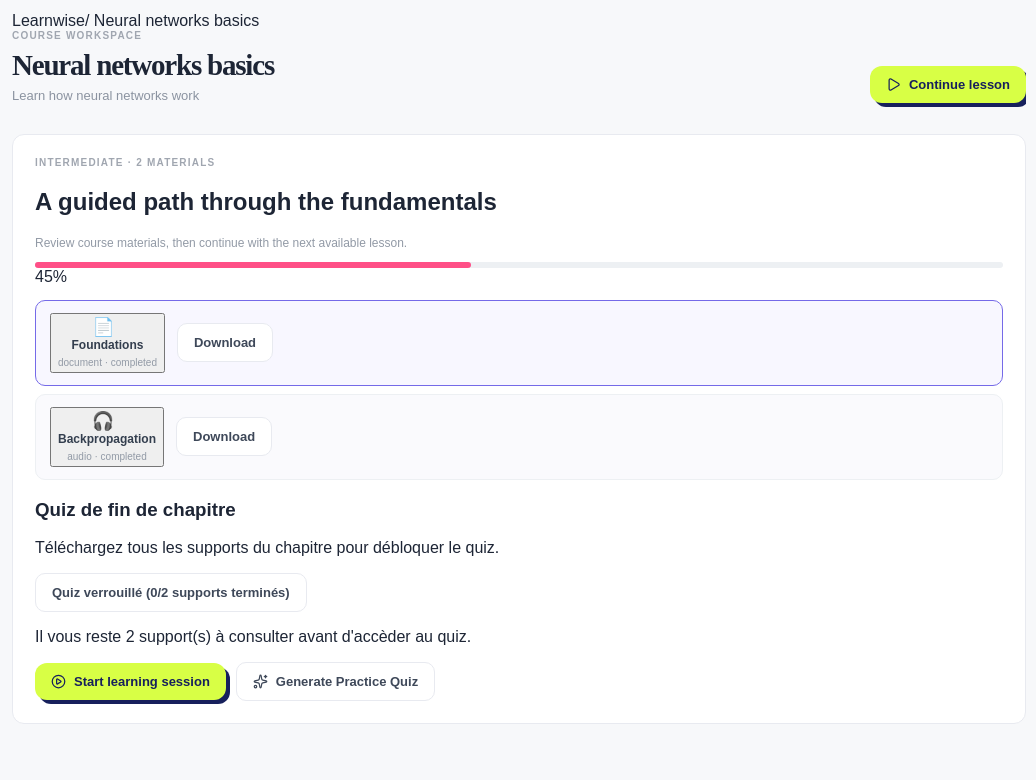
CourseDetailPage › shows quiz generation success message
The width and height of the screenshot is (1036, 780).
Click the button "Generate Practice Quiz" at (335, 682), box [236,662,435,701]
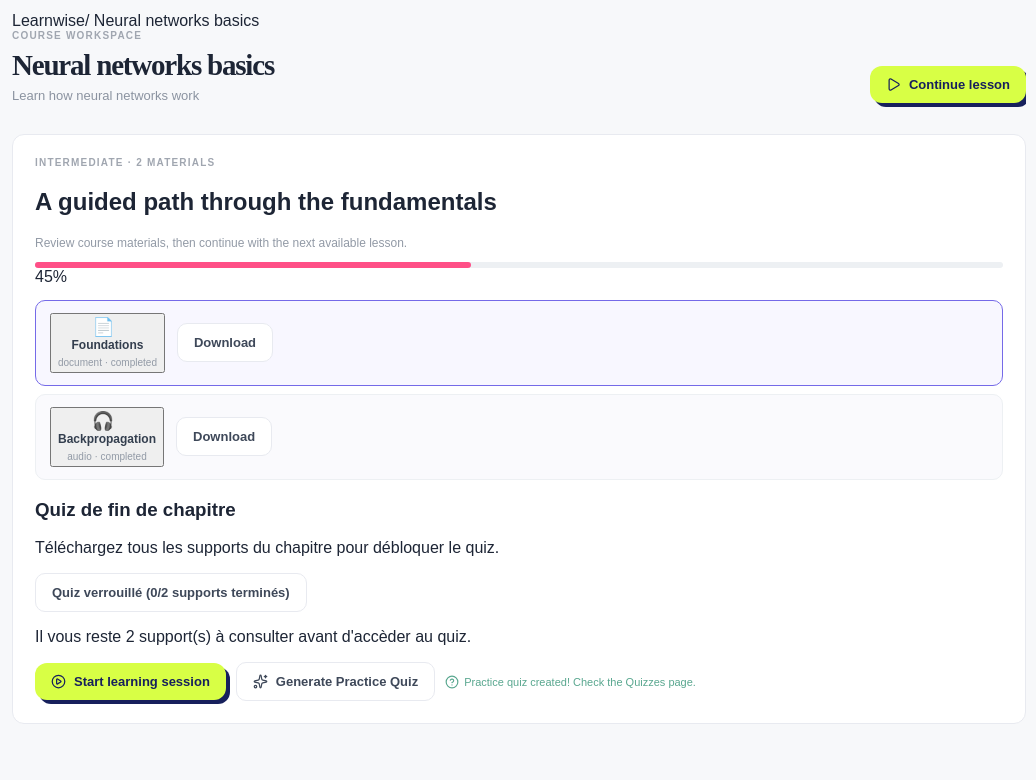
Check: the text "Practice quiz created! Check the Quizzes page." is shown, box [445,675,696,689]
